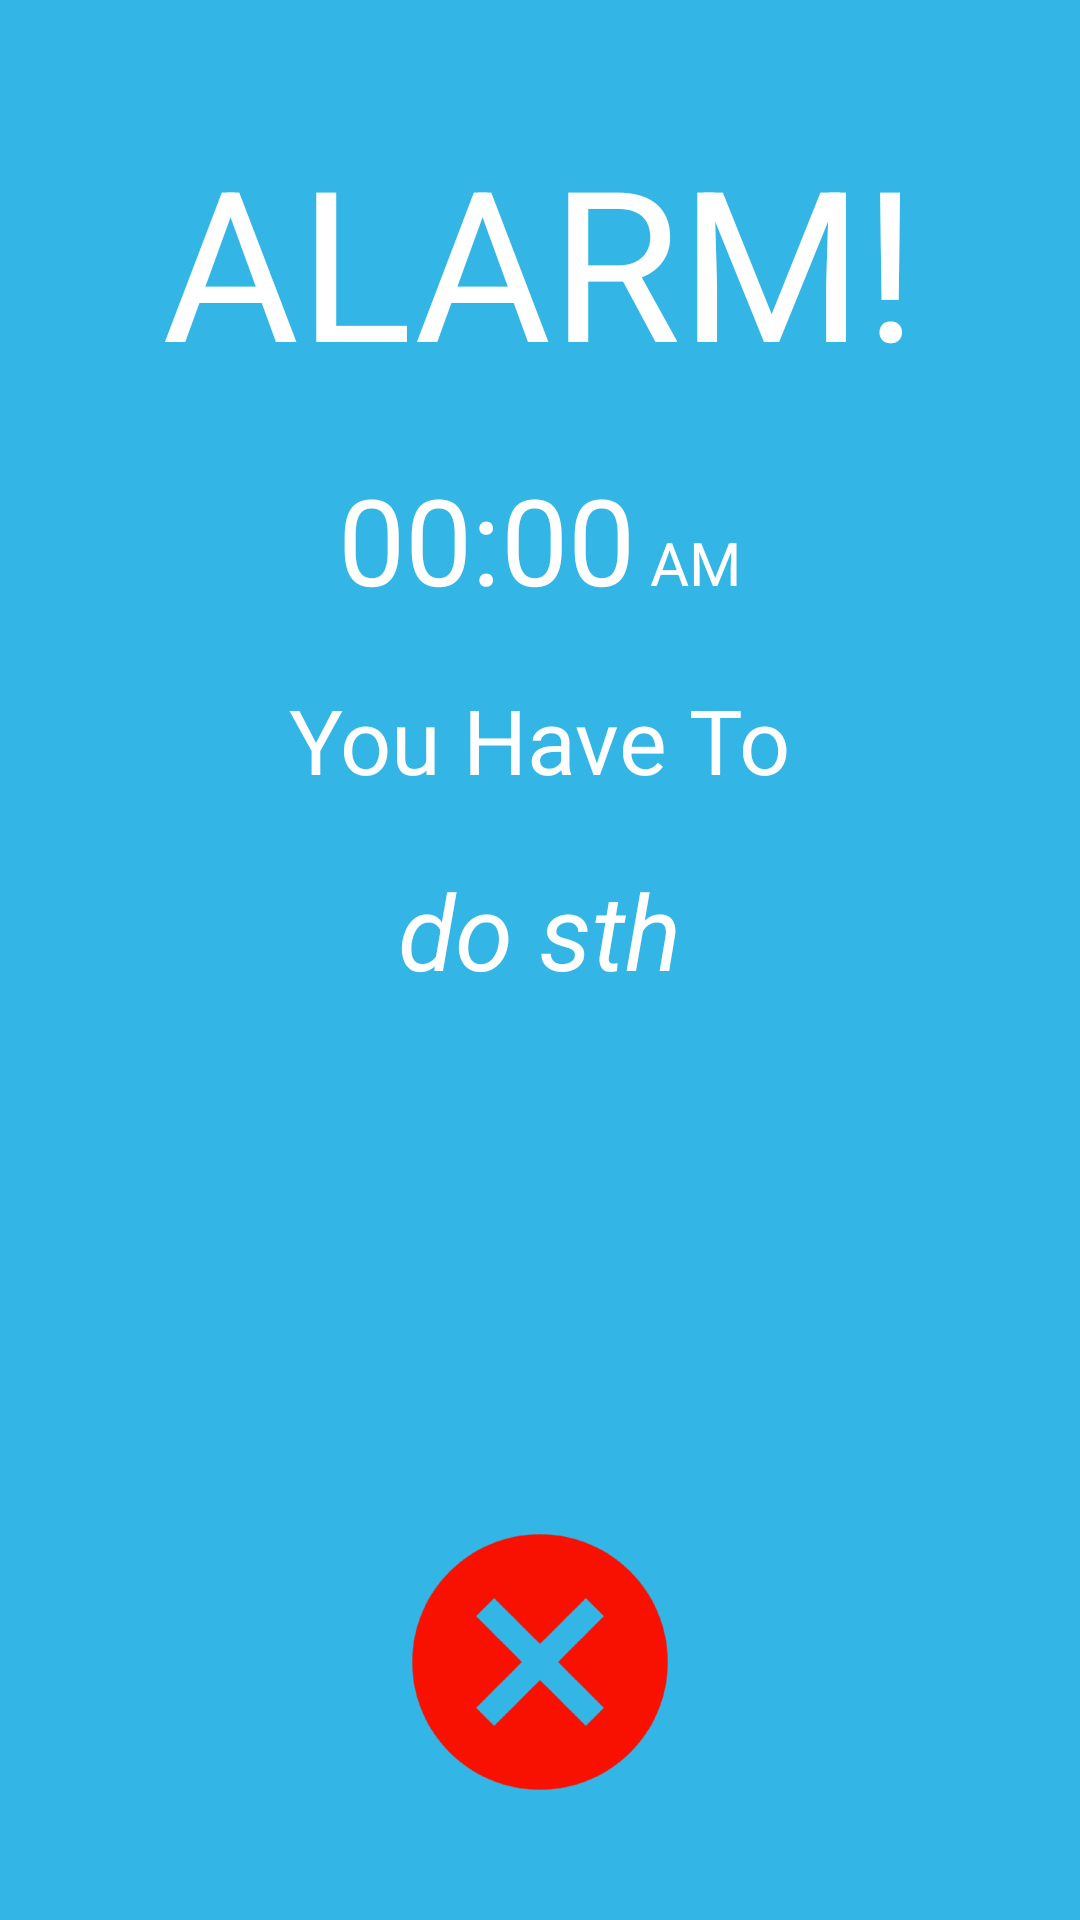

Icons on this 1080 x 1920 Android screen, each with its box as (x1, y1, x2, y2):
cancel alarm: (412, 1534, 668, 1790)
